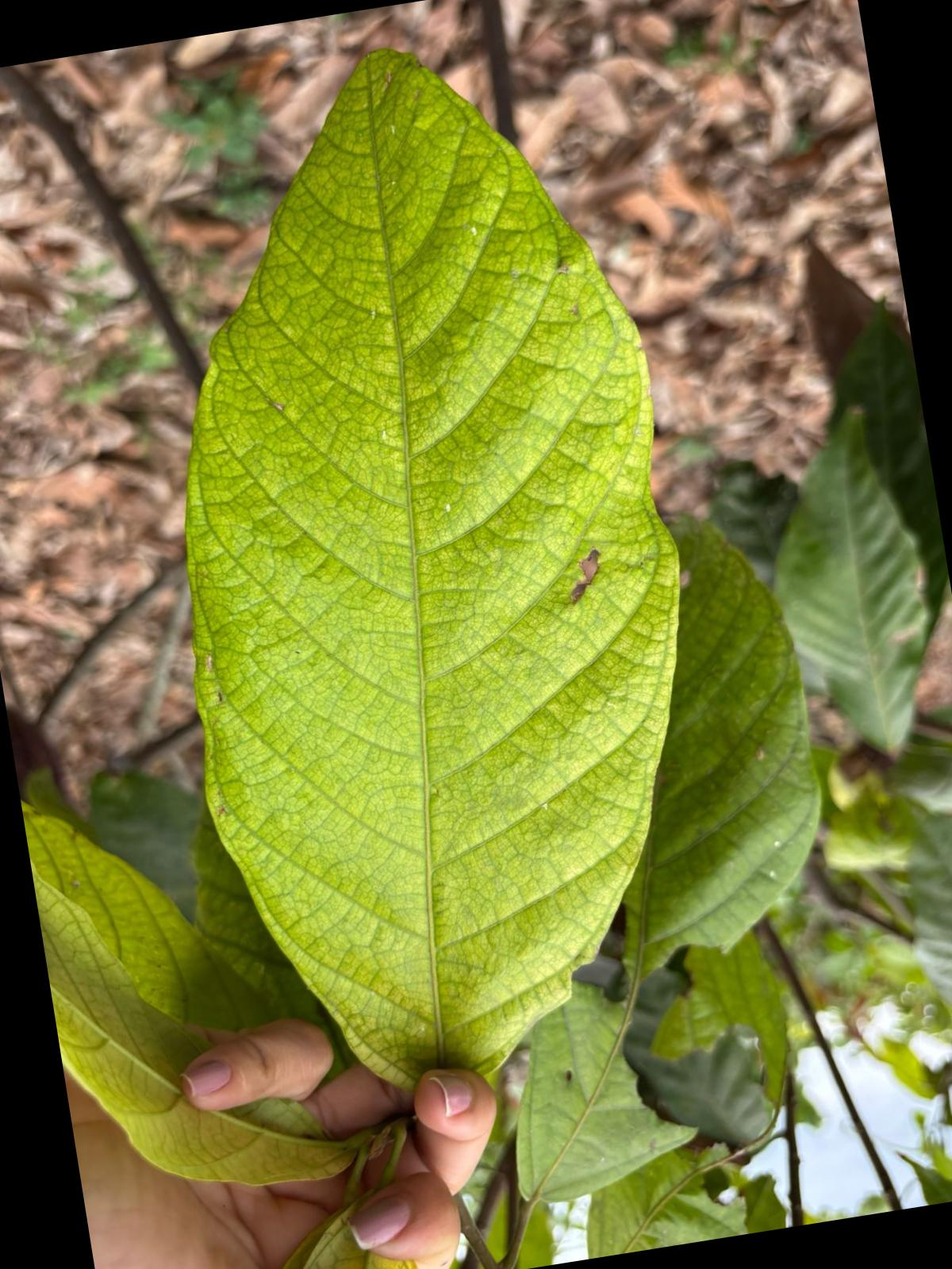Nitrogeno: (186, 52, 677, 1085)
